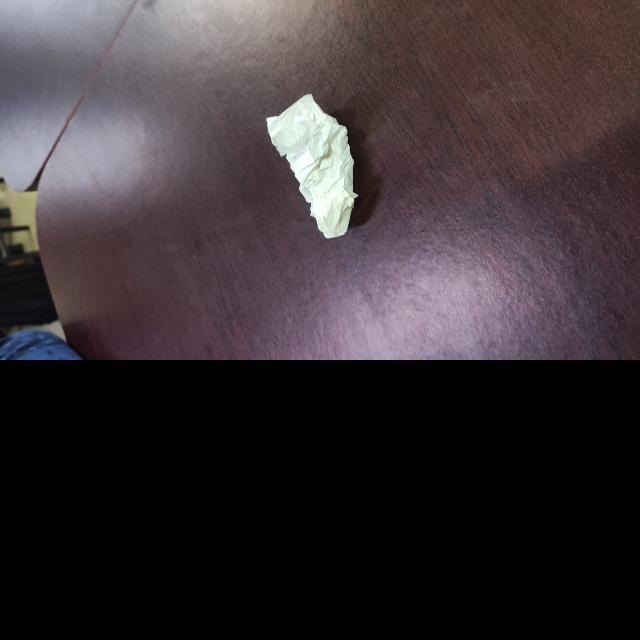kitchen paper: (264, 91, 362, 244)
